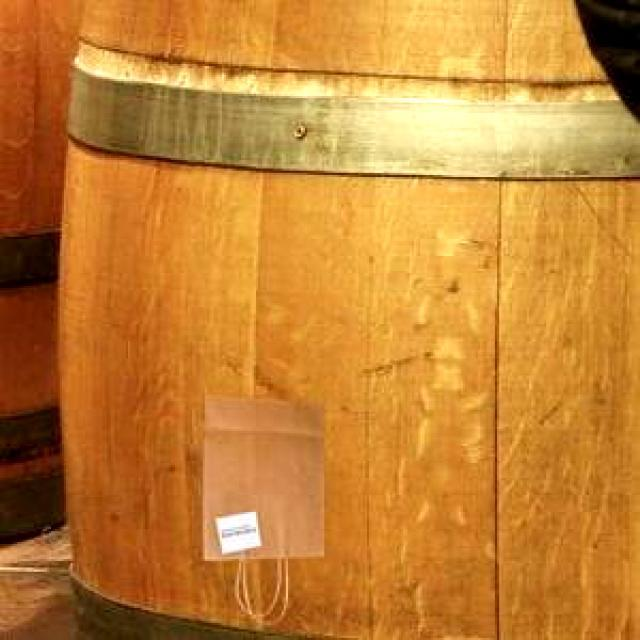Paper_Bag: (198, 392, 320, 596)
